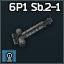AKM rear sight 6P1 Sb.2-1: (0, 0, 64, 64)
